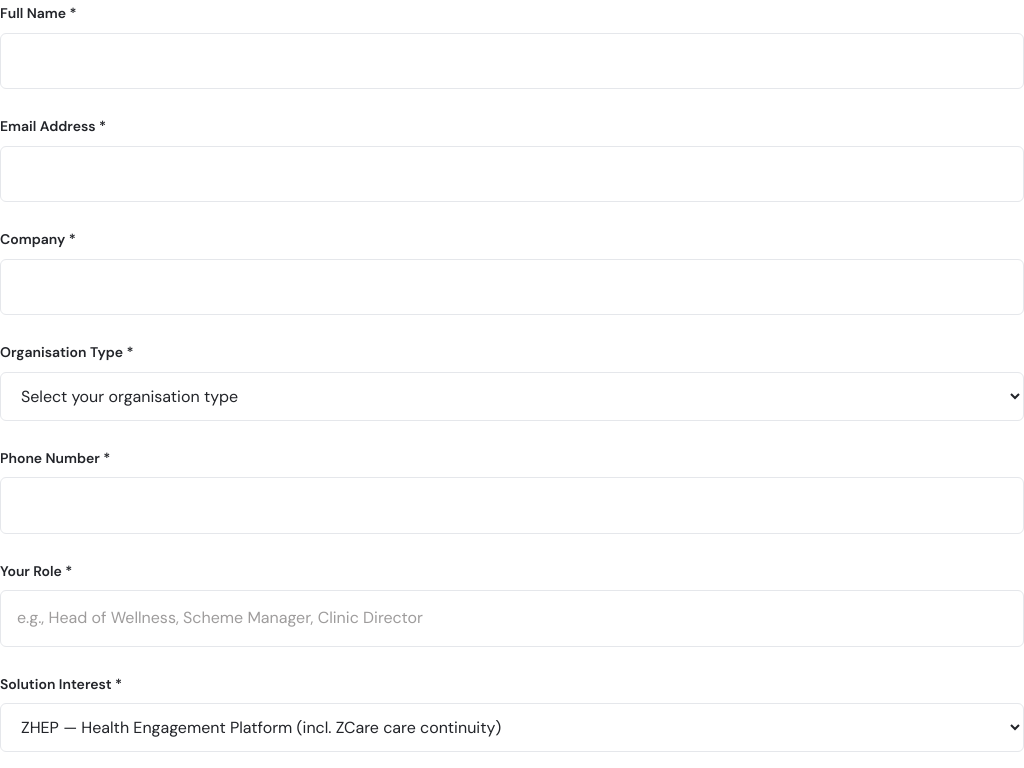
Scenario: BookDemoForm › submits form successfully
The image size is (1024, 768).
Later steps or results of the test are not shown.
Type "John Doe" into the field labelled "Full Name *" at (512, 61), box [0,33,1023,89]
Type "john@example.com" into the field labelled "Email Address *" at (512, 174), box [0,146,1023,202]
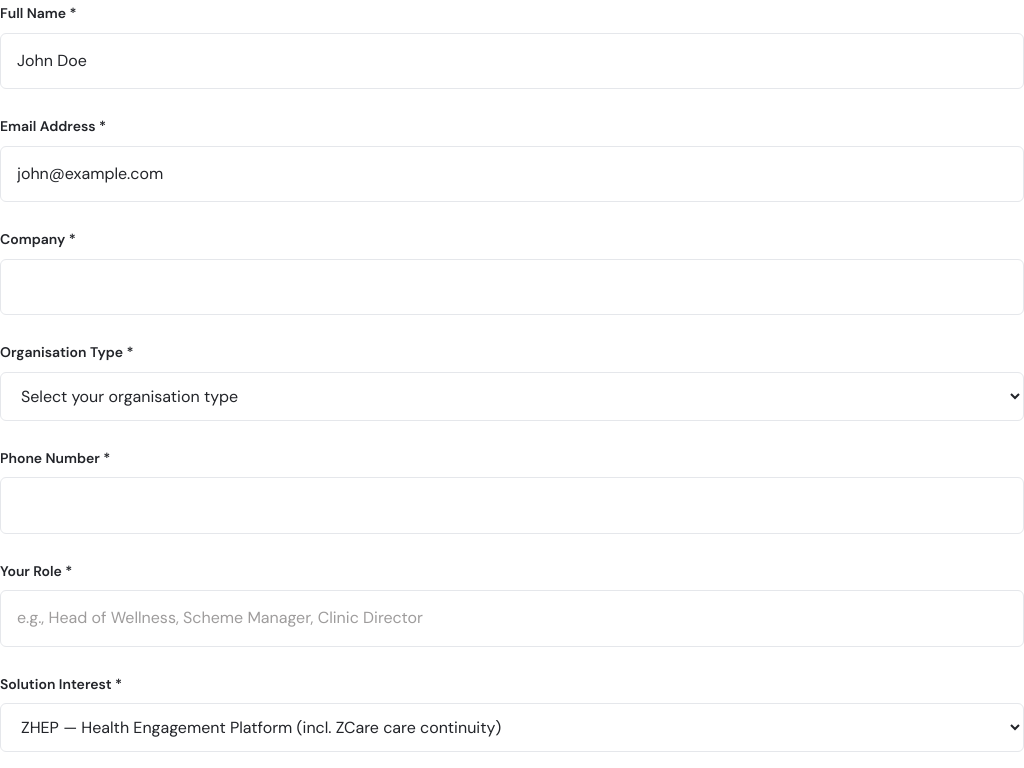
Type "Acme Inc" into the field labelled "Company *" at (512, 287), box [0,259,1023,315]
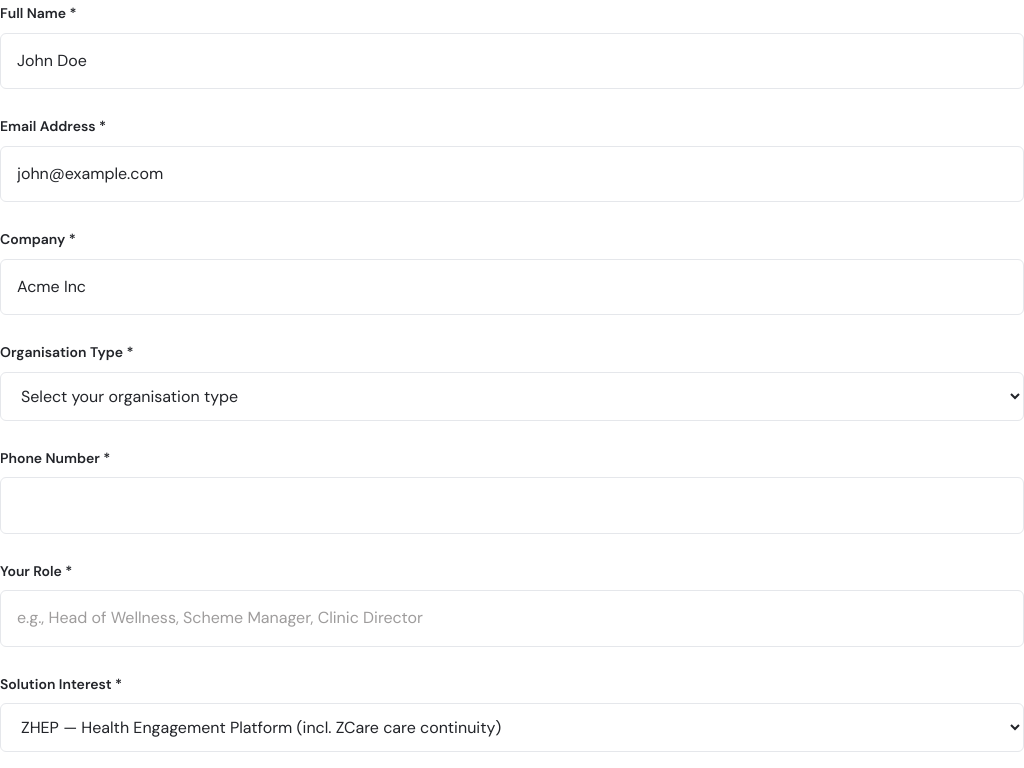
Select "Insurer or TPA" in the dropdown labelled "Organisation Type *" at (512, 396), box [0,372,1023,420]
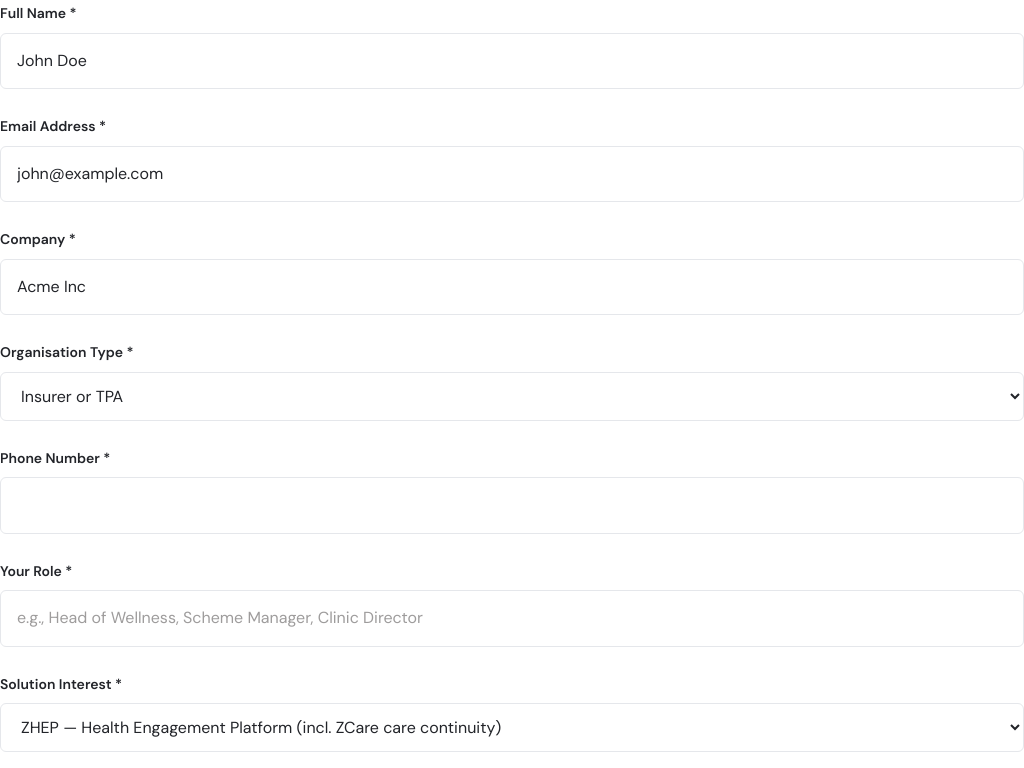
Type "555-0000" into the field labelled "Phone Number *" at (512, 505), box [0,477,1023,534]
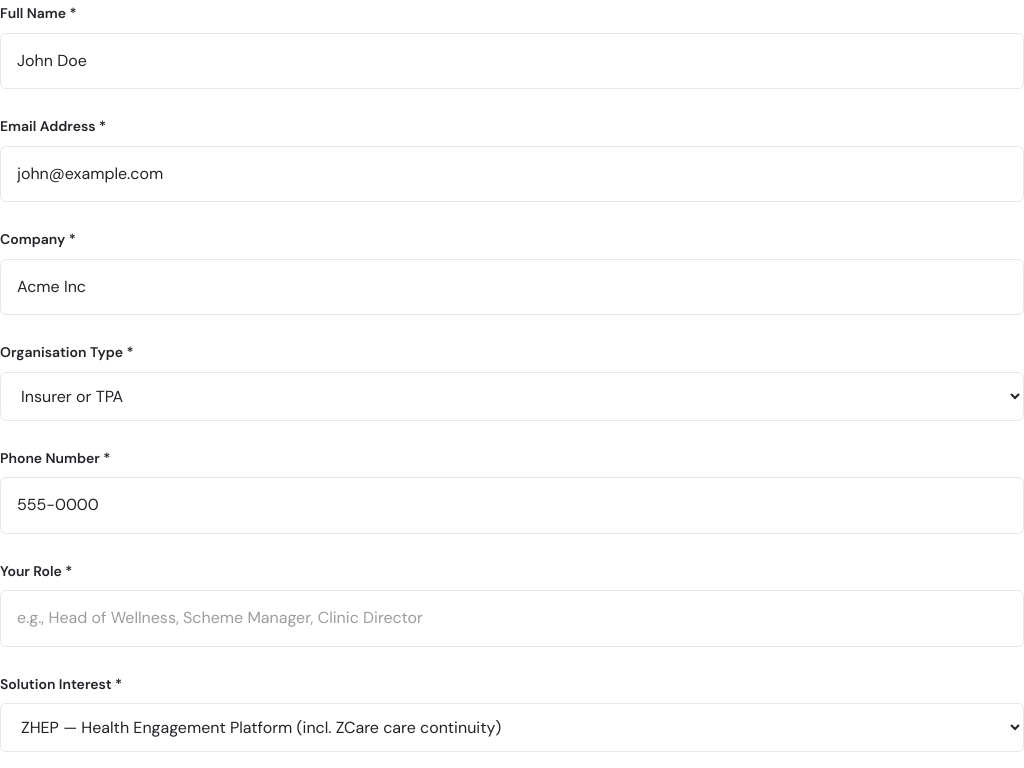
Type "Scheme Manager" into the field labelled "Your Role *" at (512, 618), box [0,590,1023,646]
(page scrolled)
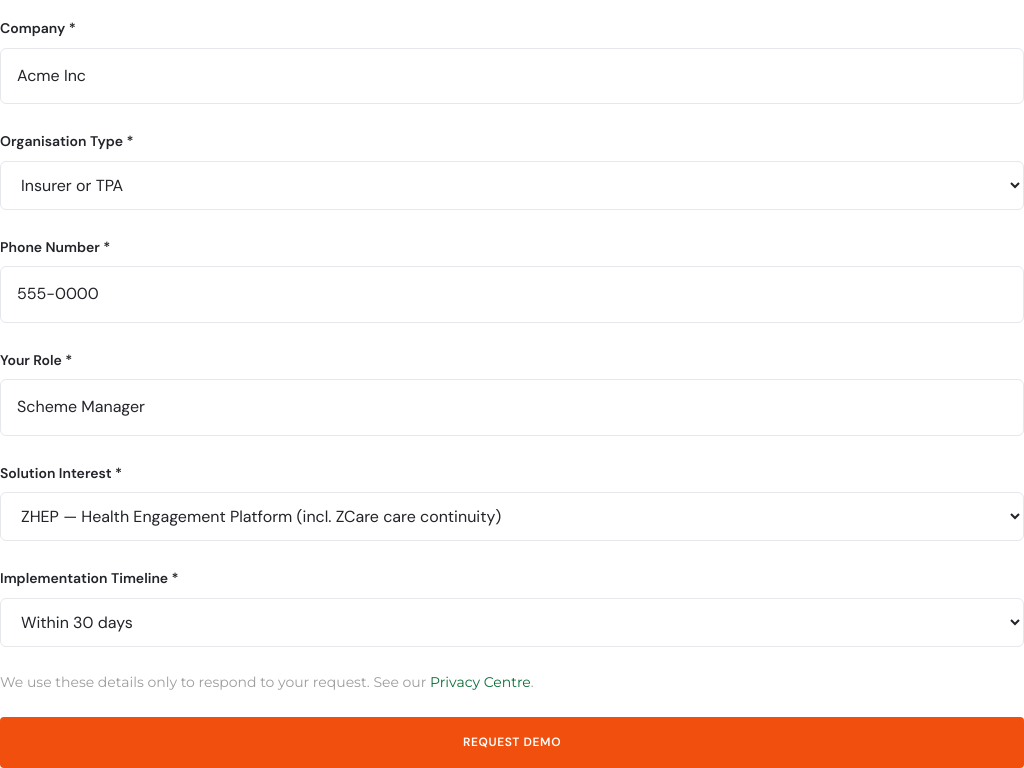
Click the button "Request Demo" at (512, 742), box [0,717,1023,767]
(page scrolled)
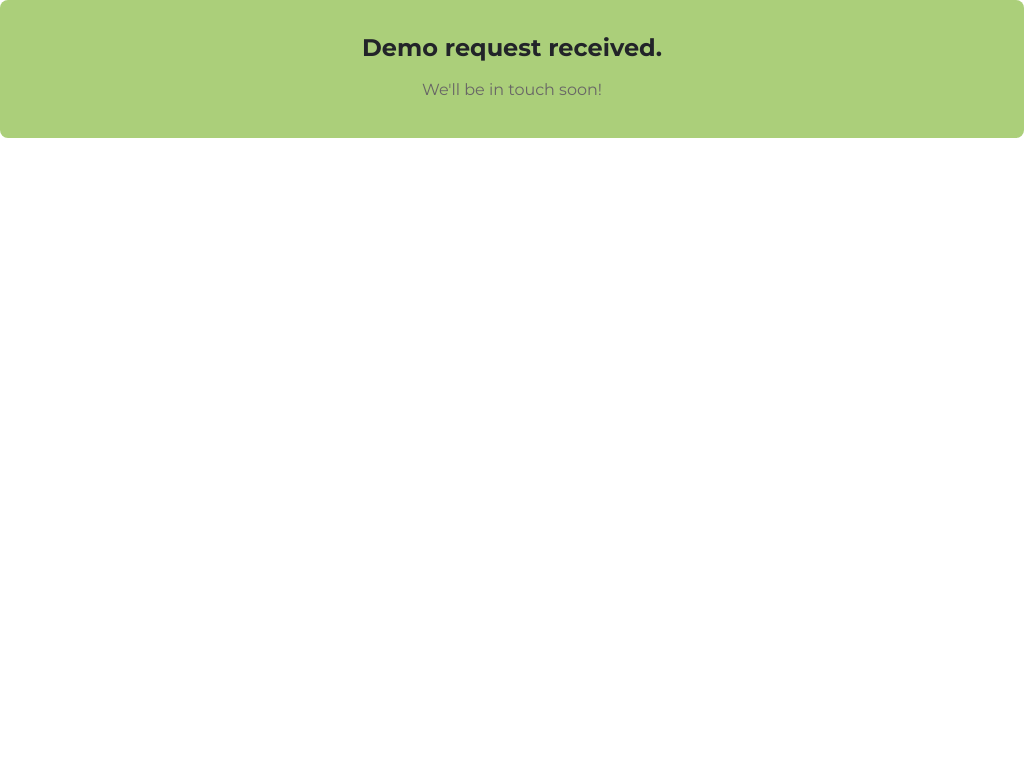
Expected: the text "We'll be in touch soon!" is shown, [422,80,602,99]
